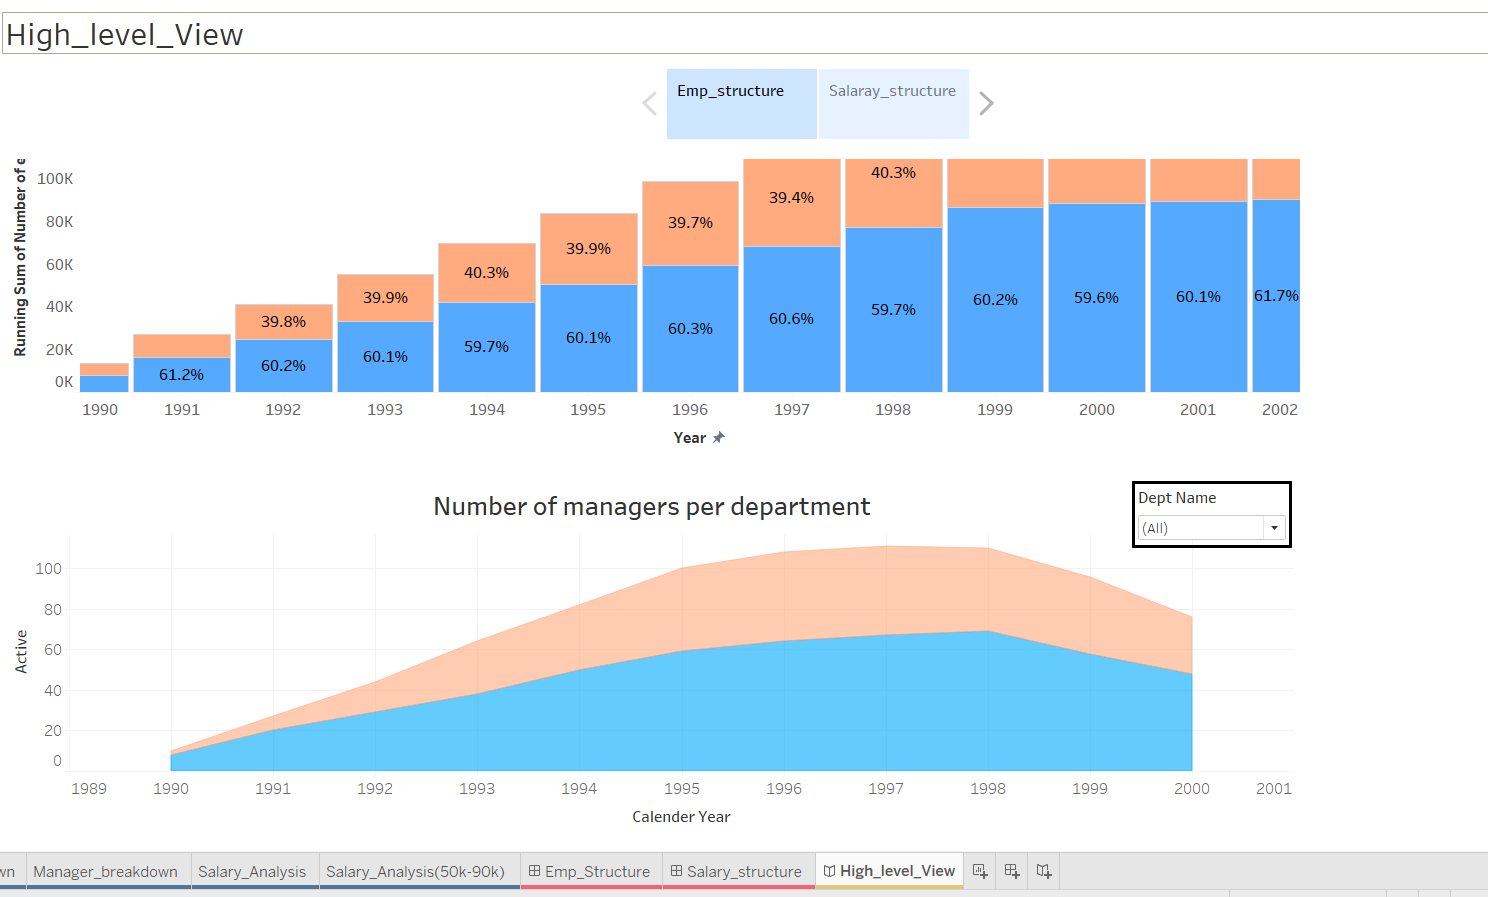

This screenshot's page, from the dashboard's own definition file:
{"tool":"tableau","page":{"name":"Emp_Structure","canvas":[1300,860],"ordinal":0},"visuals":[{"type":"worksheet","title":"Emp_Breakdown","mark":"Bar","rows":["Number_of_employees"],"cols":["Calendar_year"],"box":[4,23,1298,449]},{"type":"filter","title":"Manager_breakdown","param":"[federated.0ccm65908bmshp1fdoiod0c55cmq].[none:dept_name:nk]","box":[1134,498,160,67]},{"type":"worksheet","title":"Manager_breakdown","mark":"Area","rows":["active"],"cols":["calender_year"],"box":[12,501,1284,350]}]}

Visuals, with their boxes on the page's 1300x860 design canvas (x1, y1, x2, y2). These are canvas units, not pixel positions in the 1488x897 screenshot, which may show the page scaled, cropped or inside an application window:
"Emp_Breakdown" worksheet (Bar marks): l=4, t=23, r=1302, b=472
"Manager_breakdown" filter: l=1134, t=498, r=1294, b=565
"Manager_breakdown" worksheet (Area marks): l=12, t=501, r=1296, b=851
